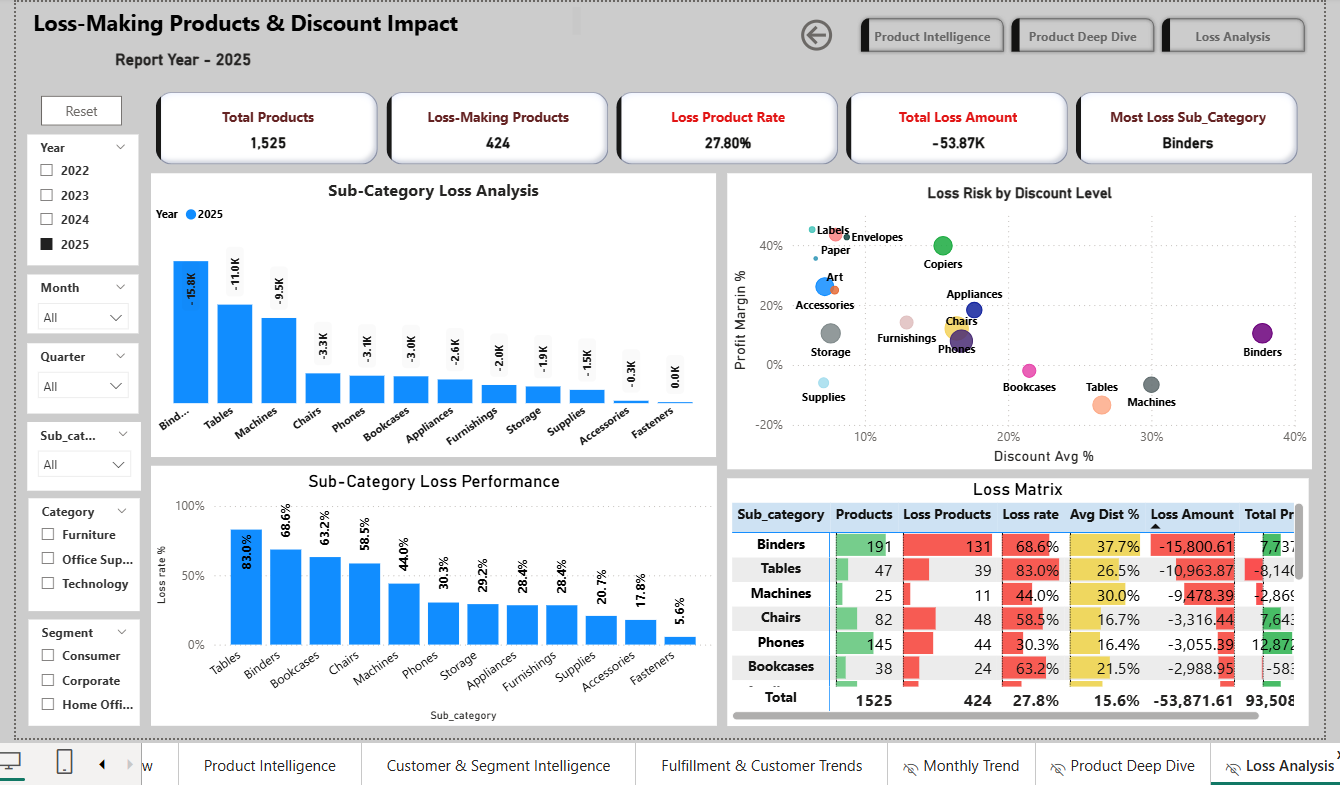

What the dashboard file says about the page in this screenshot:
{"tool":"powerbi","page":{"name":"Loss Analysis","canvas":[1280,720],"ordinal":6},"visuals":[{"type":"textbox","box":[12,0,545.1,37.8],"z":0},{"type":"card","fields":{"Values":["_Measure_customerKPI.Dynamic Year Title"]},"box":[44,39.1,239.7,35.5],"z":1000},{"type":"cardVisual","fields":{"Data":["_Measure_productKPIs.Total Products","_Measure_productKPIs.Loss Products","_Measure_productKPIs.Loss Product %","_Measure_productKPIs.Loss Amount","_Measures_Financial.Most Loss Sub_Category"]},"box":[132.1,83.2,1127.5,81.9],"z":2000},{"type":"slicer","fields":{"Values":["sales_analytics date_dim.year"]},"box":[11,129.6,108.8,128.4],"z":3000},{"type":"slicer","fields":{"Values":["sales_analytics date_dim.month_name"]},"box":[11,266.6,108.8,57.5],"z":4000},{"type":"slicer","fields":{"Values":["Customer.segment"]},"box":[12.2,604.1,108.8,103.9],"z":5000},{"type":"slicer","fields":{"Values":["Product.Category"]},"box":[12.2,485.5,108.8,110.1],"z":6000},{"type":"pivotTable","title":"Loss Matrix","fields":{"Values":["_Measure_productKPIs.Total Products","_Measure_productKPIs.Loss Products","_Measure_productKPIs.Loss Product %","_Measures_Financial.Discount Avg %","_Measure_productKPIs.Loss Amount","All_Basic_Measures.Total Profit"],"Rows":["sales_analytics product_dim.Sub_category"]},"box":[695.8,465.9,568.6,242.1],"z":7000},{"type":"lineClusteredColumnComboChart","title":"Sub-Category Loss Analysis","fields":{"Category":["sales_analytics product_dim.Sub_category"],"Series":["sales_analytics date_dim.year"],"Y":["_Measure_productKPIs.Loss Amount"]},"box":[132.1,167.5,552.7,277.6],"z":8000},{"type":"slicer","fields":{"Values":["Date_Table.Quarter"]},"box":[11,333.8,108.8,68.5],"z":9000},{"type":"slicer","fields":{"Values":["Product.Sub_category"]},"box":[11,410.9,111.3,67.3],"z":10000},{"type":"clusteredColumnChart","title":"Sub-Category Loss Performance","fields":{"Category":["sales_analytics product_dim.Sub_category"],"Series":["Date_Table.Year"],"Y":["_Measure_productKPIs.Loss Product %"]},"box":[132.1,453.7,553.9,254.3],"z":11000},{"type":"actionButton","box":[763,12.2,59.9,40.4],"z":12000},{"type":"scatterChart","title":"Loss Risk by Discount Level","fields":{"X":["_Measures_Financial.Discount Avg %"],"Series":["sales_analytics product_dim.Sub_category"],"Y":["_Measures_Financial.Profit Margin %"],"Size":["All_Basic_Measures.Total Sales"]},"box":[695.8,167.5,572.3,289.8],"z":13000},{"type":"pageNavigator","box":[823,12.2,441.4,40.4],"z":14000},{"type":"actionButton","box":[25,91.8,79.3,29.2],"z":15000}]}

Visuals, with their boxes on the page's 1280x720 design canvas (x1, y1, x2, y2). These are canvas units, not pixel positions in the 1340x785 screenshot, which may show the page scaled, cropped or inside an application window:
textbox: (12, 0, 557, 38)
card - _Measure_customerKPI.Dynamic Year Title: (44, 39, 284, 75)
cardVisual - _Measure_productKPIs.Total Products x _Measure_productKPIs.Loss Products: (132, 83, 1260, 165)
slicer - sales_analytics date_dim.year: (11, 130, 120, 258)
slicer - sales_analytics date_dim.month_name: (11, 267, 120, 324)
slicer - Customer.segment: (12, 604, 121, 708)
slicer - Product.Category: (12, 486, 121, 596)
"Loss Matrix" pivotTable: (696, 466, 1264, 708)
"Sub-Category Loss Analysis" lineClusteredColumnComboChart: (132, 168, 685, 445)
slicer - Date_Table.Quarter: (11, 334, 120, 402)
slicer - Product.Sub_category: (11, 411, 122, 478)
"Sub-Category Loss Performance" clusteredColumnChart: (132, 454, 686, 708)
actionButton: (763, 12, 823, 53)
"Loss Risk by Discount Level" scatterChart: (696, 168, 1268, 457)
pageNavigator: (823, 12, 1264, 53)
actionButton: (25, 92, 104, 121)
